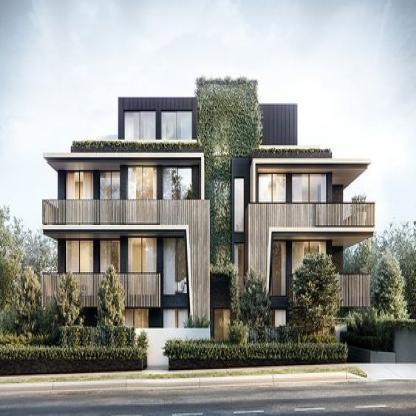Balcony: (42, 199, 210, 225), (42, 274, 160, 308), (248, 203, 374, 228), (70, 140, 203, 162), (288, 275, 370, 307)
Building Outline: (42, 78, 375, 372)
Door: (214, 309, 231, 365)
Facade: (43, 77, 375, 372)
Floor Slab: (42, 225, 210, 230), (43, 297, 210, 302), (43, 153, 204, 158), (258, 299, 370, 304), (248, 228, 375, 232)
Glass Wall: (214, 160, 231, 274), (291, 242, 327, 294), (291, 174, 327, 226), (161, 111, 191, 168), (125, 111, 155, 168), (163, 238, 192, 296), (128, 238, 157, 296), (163, 307, 192, 365), (120, 309, 149, 366), (163, 167, 192, 224), (128, 167, 157, 224), (258, 309, 286, 364), (258, 242, 286, 297), (66, 241, 93, 297), (258, 174, 286, 226), (66, 171, 93, 224), (100, 241, 120, 296), (100, 171, 120, 224)
Window: (234, 243, 244, 297), (234, 178, 244, 231)
